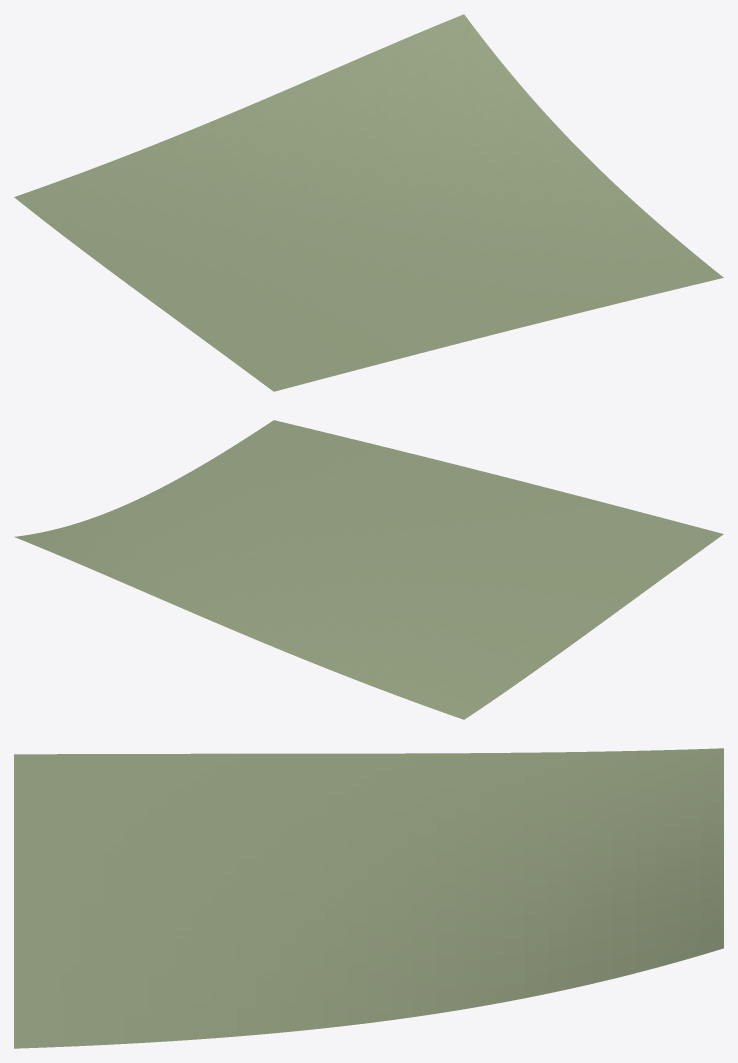
File: expanse-22-30.glb
3 views of the same model, one above another, from view 1: azimuth 30°, elevation 25°; view 2: azimuth 150°, elevation 25°; view 3: azimuth 270°, elevation 25° (orthographic). The views are drawn at different scales.
Visible parts, largest first — view 1: expanse-22-30; view 2: expanse-22-30; view 3: expanse-22-30.
Boxes of the visible parts, x1,y1,x2,y2 form: expanse-22-30: [14, 14, 723, 391]; expanse-22-30: [15, 420, 723, 719]; expanse-22-30: [14, 748, 723, 1048].
Size of the model in its own units: 256 by 42.18 by 256.
